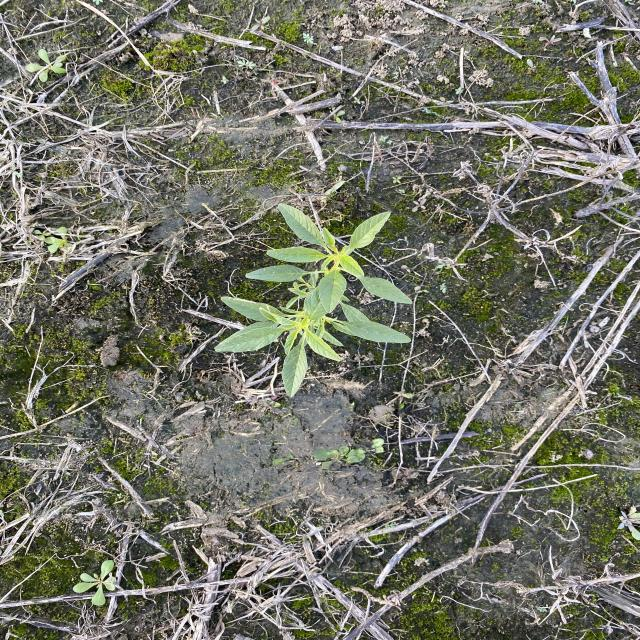Carpetweed: (69, 554, 123, 608), (22, 44, 72, 86)
Waterhemp: (212, 202, 415, 399)
